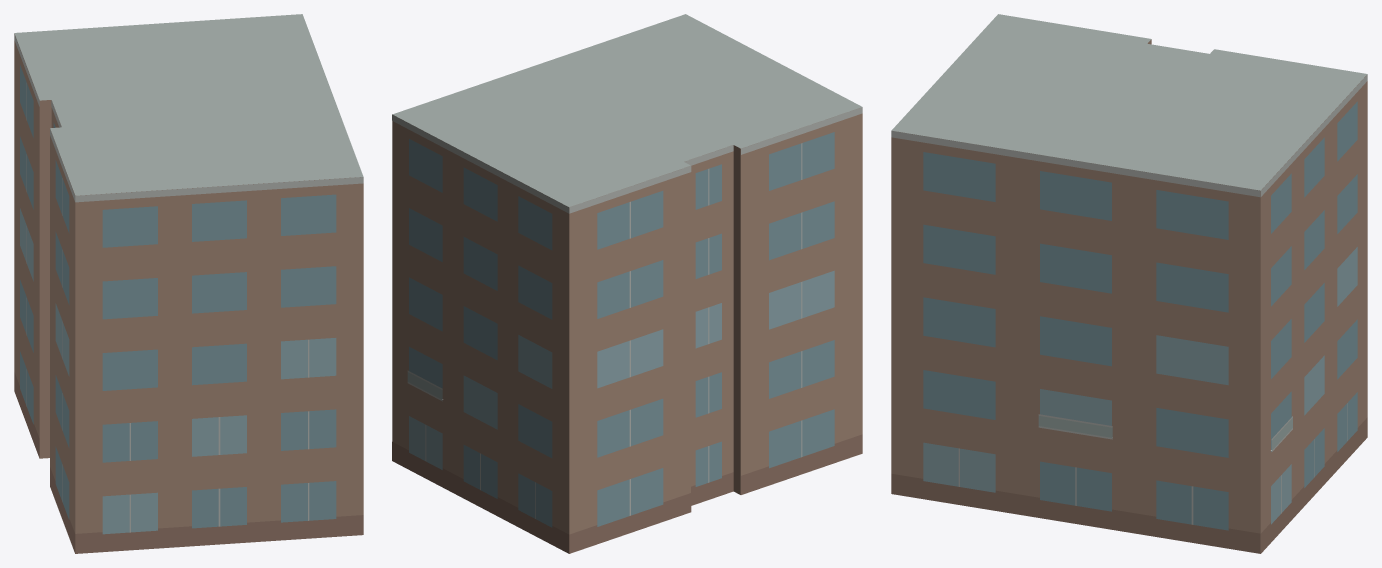
Rendered from survey-upis-32996222.glb.
3 views of the same model, side by side, from view 1: azimuth 30°, elevation 25°; view 2: azimuth 150°, elevation 25°; view 3: azimuth 270°, elevation 25° (orthographic). The views are drawn at different scales.
Parts seen in each view (by area): view 1: survey-upis-32996222.tmp; view 2: survey-upis-32996222.tmp; view 3: survey-upis-32996222.tmp.
Part boxes in pixels (x1=…): survey-upis-32996222.tmp: x1=14, y1=14, x2=363, y2=553; survey-upis-32996222.tmp: x1=392, y1=14, x2=862, y2=553; survey-upis-32996222.tmp: x1=891, y1=14, x2=1367, y2=553.
Bounding box in the file's own units: 13.77 × 13.2 × 15.7.
